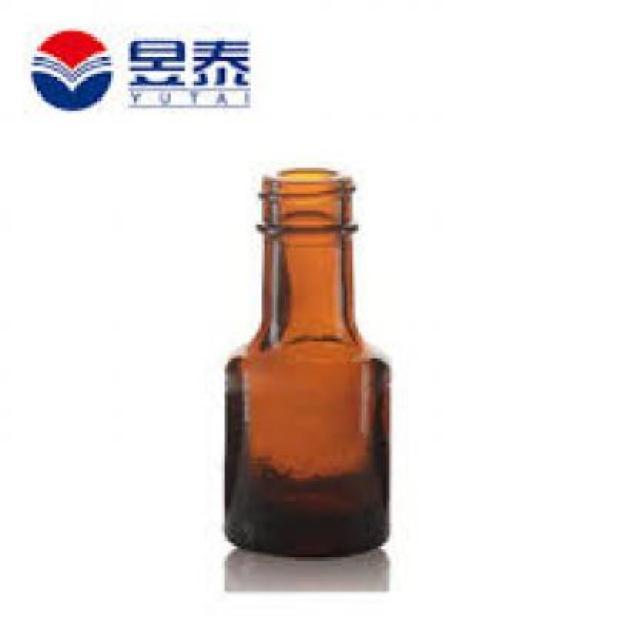kaca: (225, 163, 388, 555)
